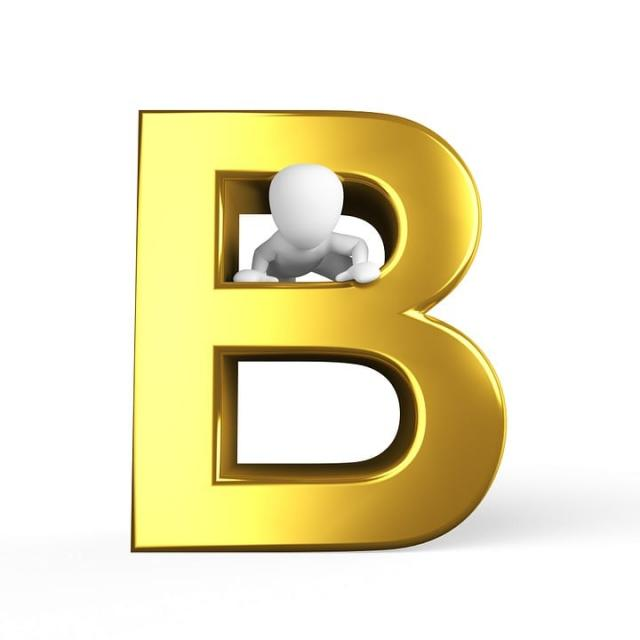B: (115, 59, 532, 587)
